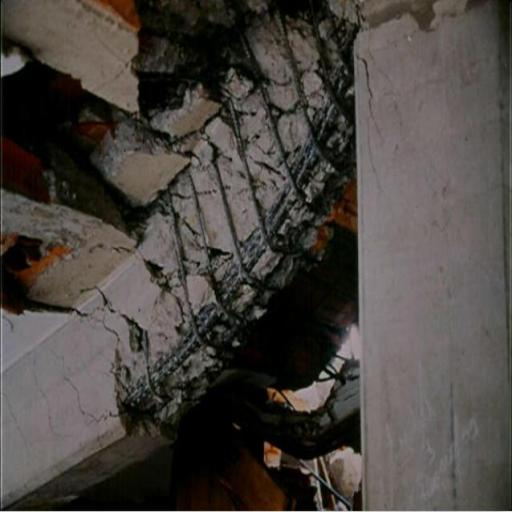spalling: (110, 12, 353, 434)
